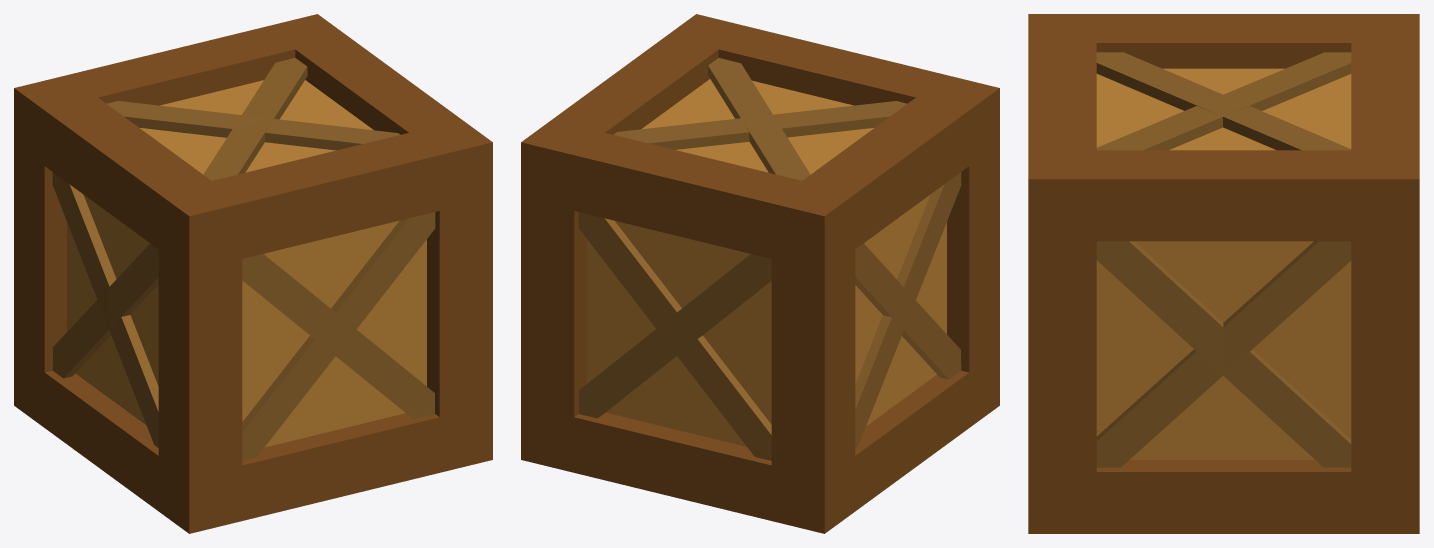
3 renders of one model, left to right at view 1: azimuth 30°, elevation 25°; view 2: azimuth 150°, elevation 25°; view 3: azimuth 270°, elevation 25°, orthographic. The views are drawn at different scales.
Visible parts, largest first — view 1: BOX; view 2: BOX; view 3: BOX.
Part boxes in pixels (x1,y1,x2,y2): BOX: (14, 14, 492, 533); BOX: (521, 14, 999, 533); BOX: (1028, 14, 1419, 533).
Size of the model in its own units: 0.8 by 0.8 by 0.8.
